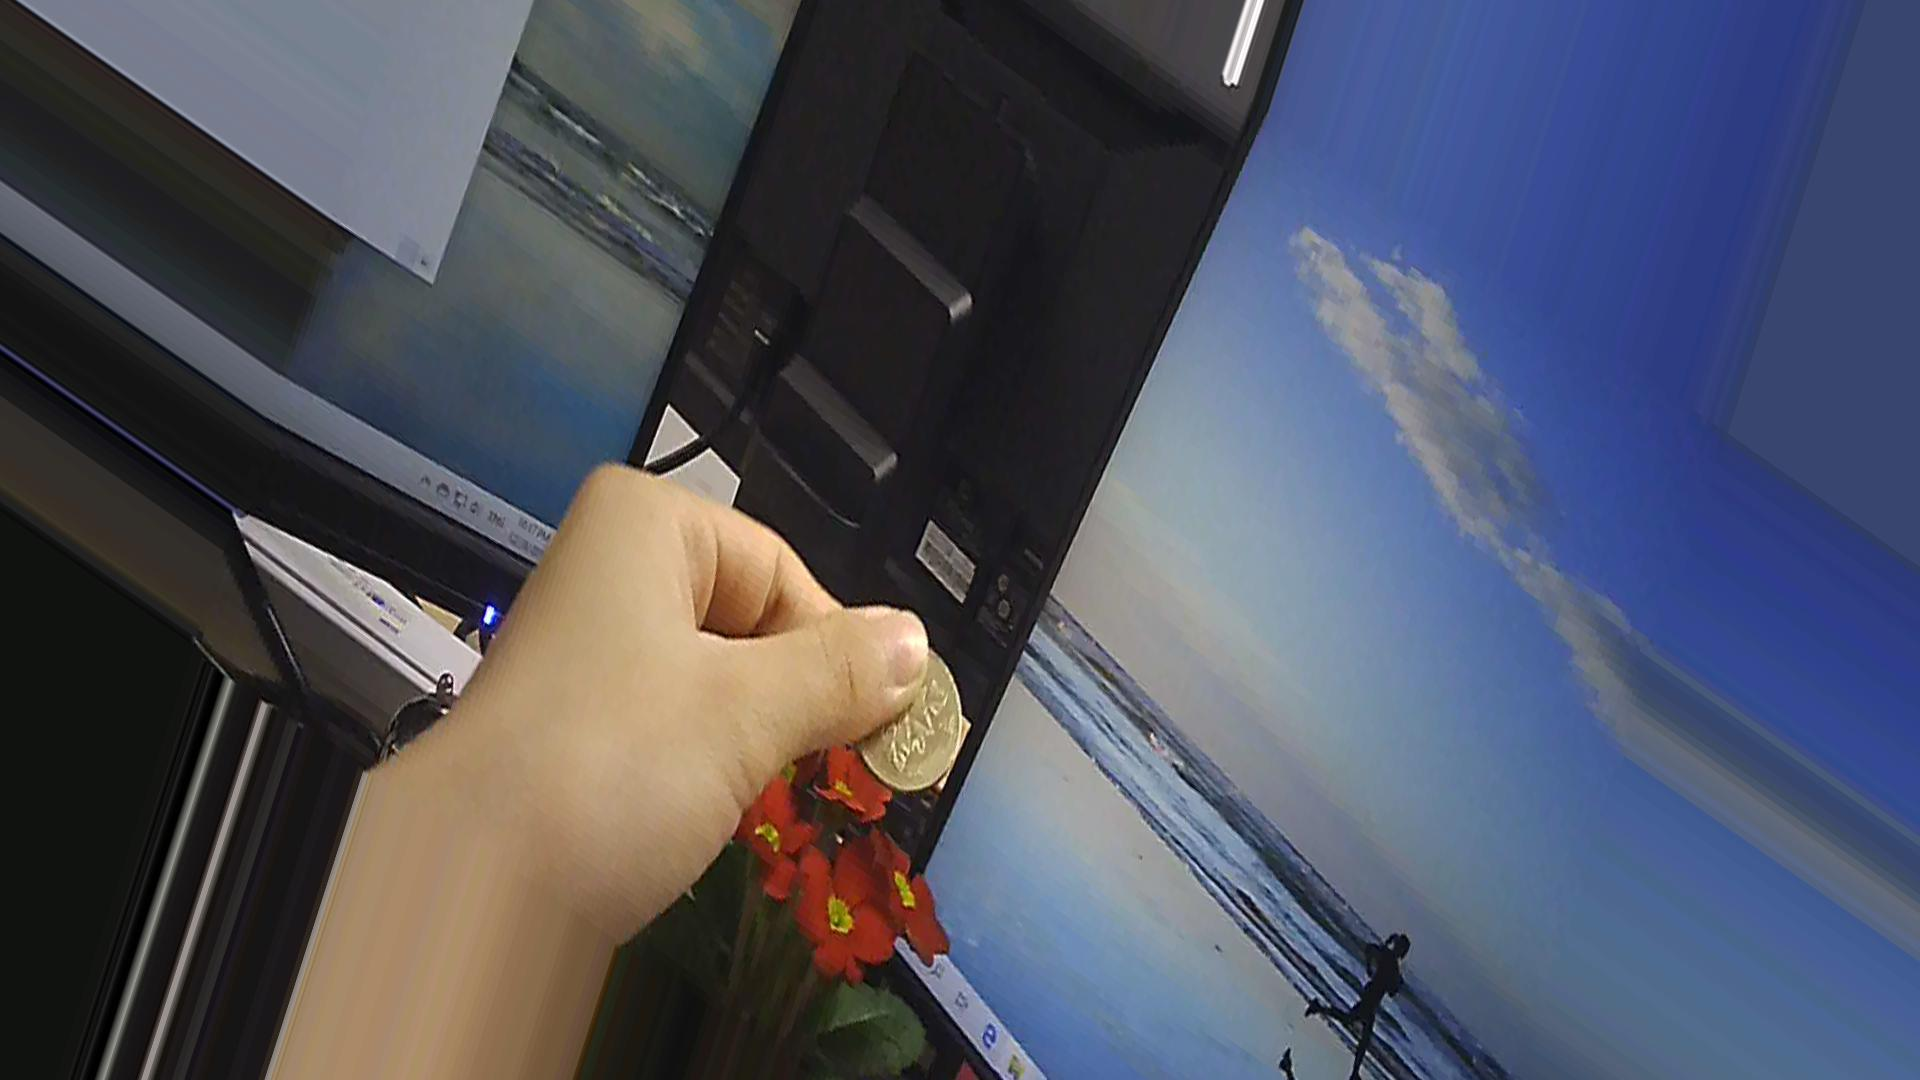500 Yen: (855, 634, 973, 808)
